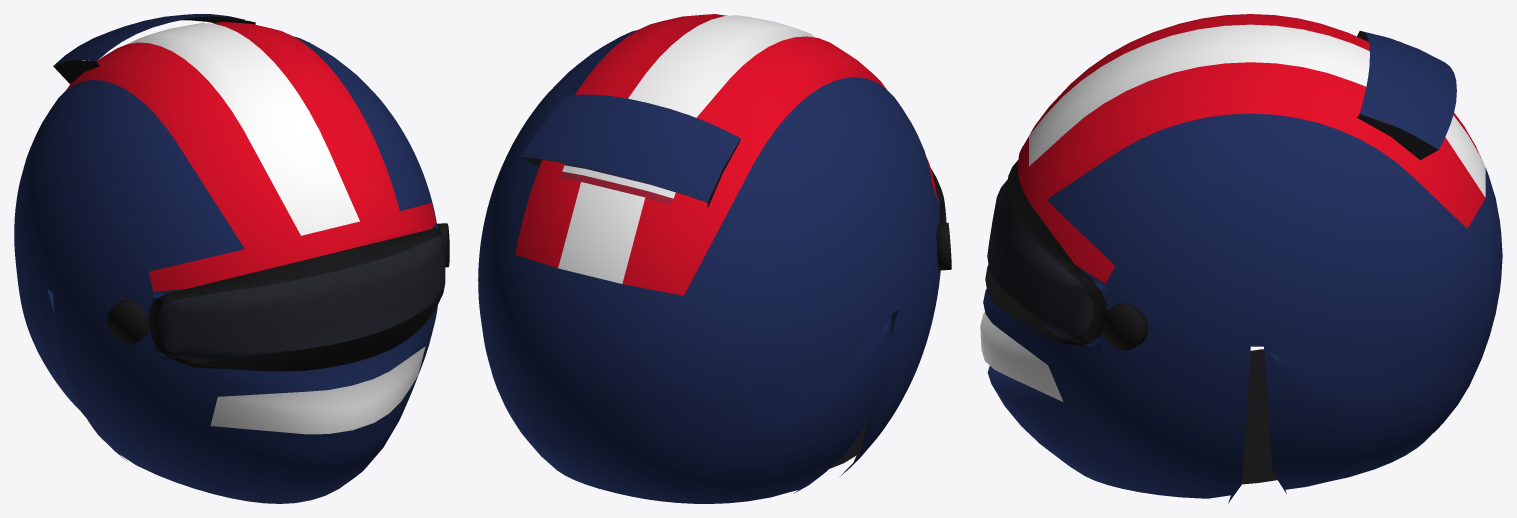
Rendered from ALB.glb.
The picture shows the model from 3 angles, left to right: view 1: azimuth 30°, elevation 25°; view 2: azimuth 150°, elevation 25°; view 3: azimuth 270°, elevation 25°; orthographic projection. The views are drawn at different scales.
Parts seen in each view (by area): view 1: helmet; view 2: helmet; view 3: helmet.
Part boxes in pixels (bbox=[...]): helmet: bbox=[14, 14, 449, 503]; helmet: bbox=[478, 14, 951, 503]; helmet: bbox=[980, 14, 1502, 503].
Size of the model in its own units: 0.256 by 0.2772 by 0.3111.
